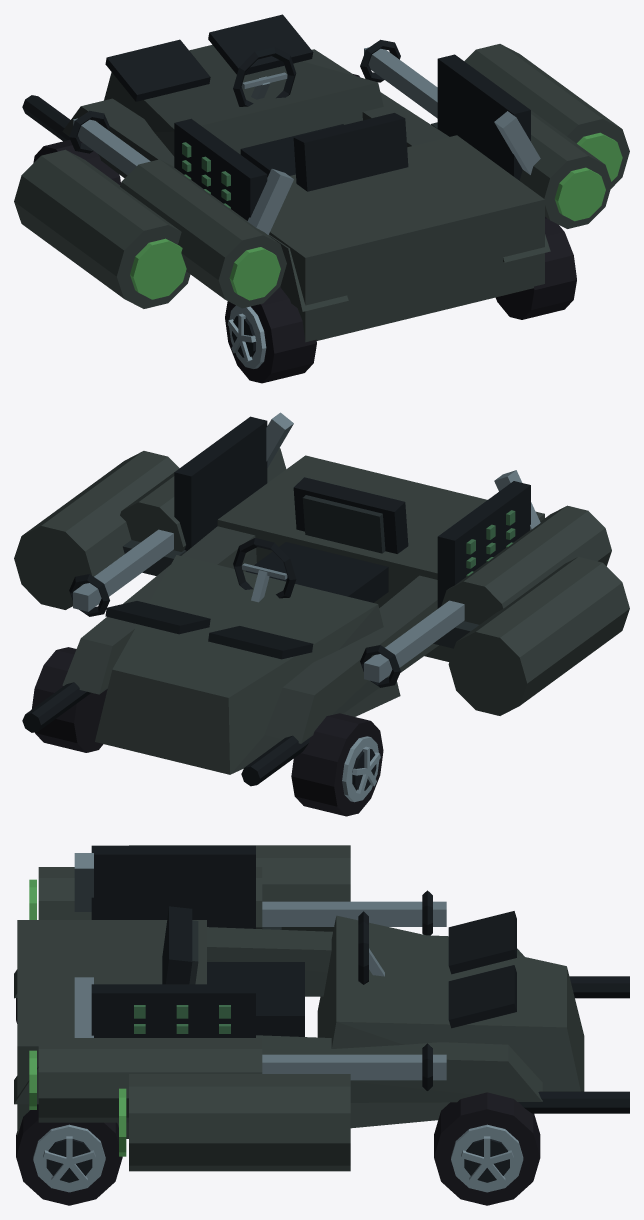
File: kart.glb
3 views of the same model, one above another, from view 1: azimuth 30°, elevation 25°; view 2: azimuth 150°, elevation 25°; view 3: azimuth 270°, elevation 25° (orthographic). The views are drawn at different scales.
Visible parts, largest first — view 1: identity-gunship-gunship-armored-cargo-fuselage, identity-gunship-motif-engine-pods, identity-gunship-motif-matrix, identity-gunship-driver-cockpit, identity-gunship-motif-pipes, wheel-rear-left, wheel-rear-right, wheel-front-left; view 2: identity-gunship-gunship-armored-cargo-fuselage, identity-gunship-motif-matrix, identity-gunship-driver-cockpit, identity-gunship-motif-engine-pods, identity-gunship-motif-pipes, wheel-front-left, wheel-front-right; view 3: identity-gunship-gunship-armored-cargo-fuselage, identity-gunship-motif-matrix, identity-gunship-motif-engine-pods, identity-gunship-motif-pipes, wheel-front-right, identity-gunship-driver-cockpit, wheel-rear-right.
Part boxes in pixels (box(x1,y1,x2,y2)): identity-gunship-gunship-armored-cargo-fuselage: box(14, 14, 629, 342); identity-gunship-motif-engine-pods: box(120, 110, 611, 308); identity-gunship-motif-matrix: box(174, 54, 530, 220); identity-gunship-driver-cockpit: box(233, 47, 408, 191); identity-gunship-motif-pipes: box(69, 39, 540, 234); wheel-rear-left: box(225, 287, 316, 383); wheel-rear-right: box(495, 217, 576, 319); wheel-front-left: box(33, 140, 120, 185); identity-gunship-gunship-armored-cargo-fuselage: box(14, 451, 629, 786); identity-gunship-motif-matrix: box(174, 416, 530, 608); identity-gunship-driver-cockpit: box(233, 477, 408, 602); identity-gunship-motif-engine-pods: box(120, 448, 611, 624); identity-gunship-motif-pipes: box(69, 412, 540, 687); wheel-front-left: box(291, 713, 383, 816); wheel-front-right: box(31, 647, 107, 752); identity-gunship-gunship-armored-cargo-fuselage: box(14, 845, 629, 1171); identity-gunship-motif-matrix: box(91, 845, 255, 1037); identity-gunship-motif-engine-pods: box(29, 867, 262, 1122); identity-gunship-motif-pipes: box(74, 853, 446, 1090); wheel-front-right: box(434, 1092, 540, 1205); identity-gunship-driver-cockpit: box(162, 906, 384, 1036); wheel-rear-right: box(16, 1104, 122, 1205).
Bounding box in the file's own units: 3 × 1.09 × 2.89.
